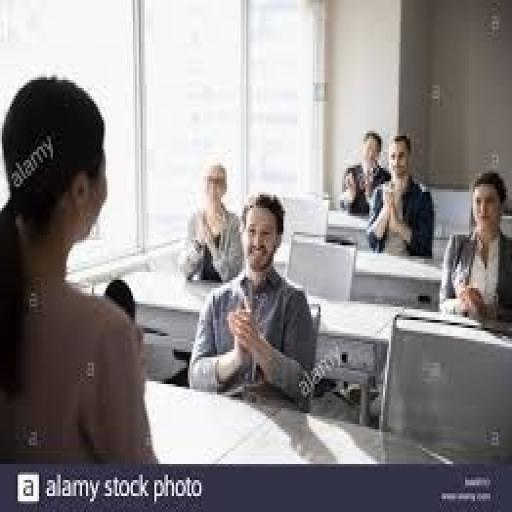clapping: (186, 190, 318, 414), (438, 168, 510, 328), (363, 131, 436, 261), (178, 157, 246, 288), (336, 128, 391, 219)
